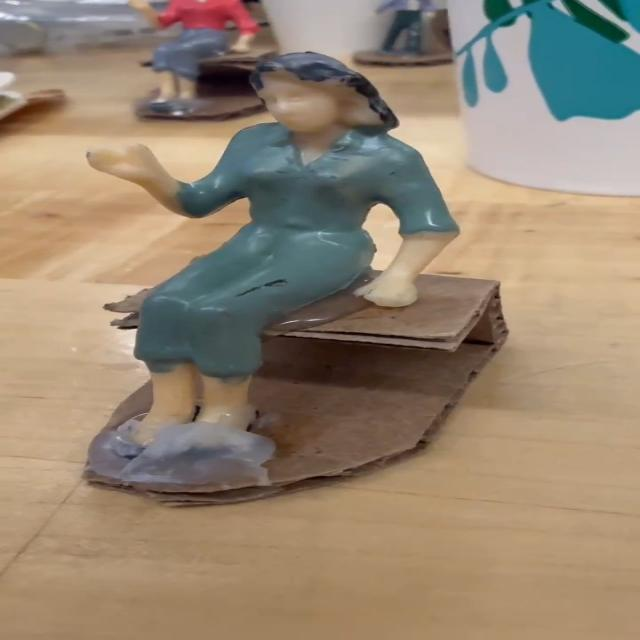Authorized: (75, 40, 498, 478)
